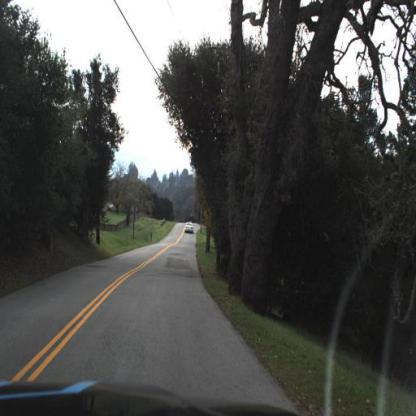car: (182, 220, 196, 237)
